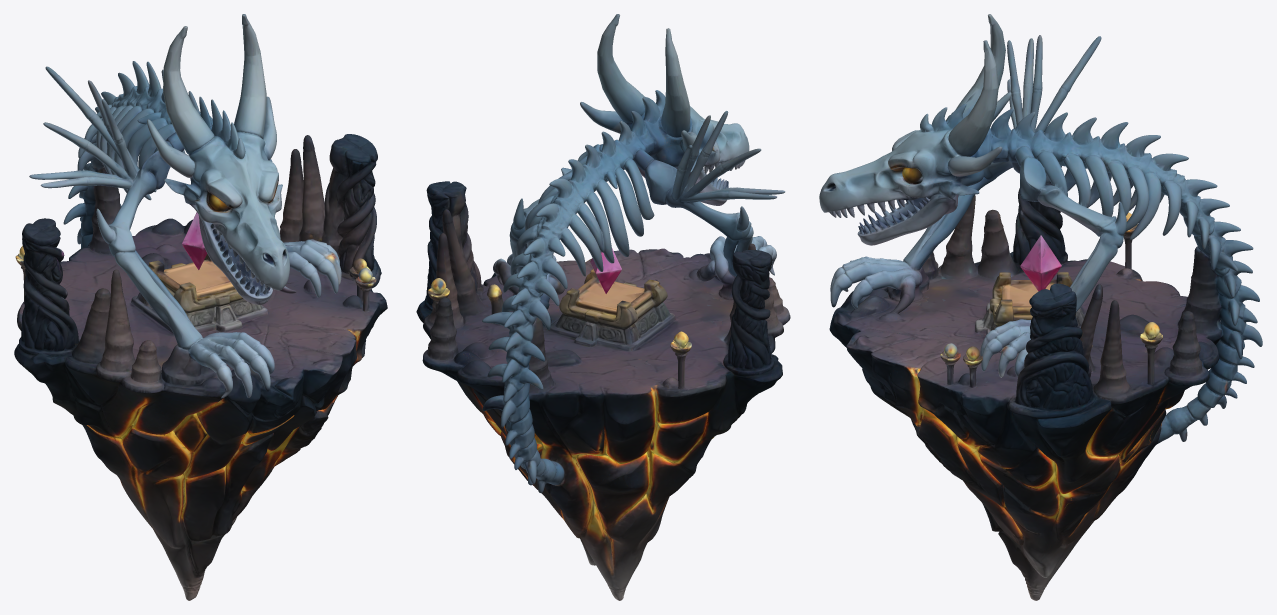
3 renders of one model, left to right at view 1: azimuth 30°, elevation 25°; view 2: azimuth 150°, elevation 25°; view 3: azimuth 270°, elevation 25°, orthographic. The views are drawn at different scales.
Visible parts, largest first — view 1: node_0; view 2: node_0; view 3: node_0.
Part boxes in pixels (<box>): node_0: <box>14,14,387,600</box>; node_0: <box>416,14,790,600</box>; node_0: <box>819,14,1262,600</box>.
Bounding box in the file's own units: 0.7502 × 1.17 × 0.8212.
1 material, 1 textured.
